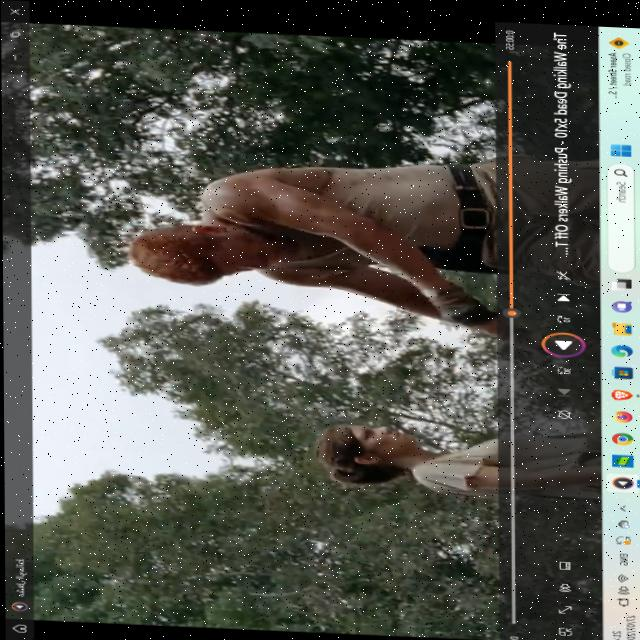human: (140, 218, 276, 282), (319, 413, 421, 469)
